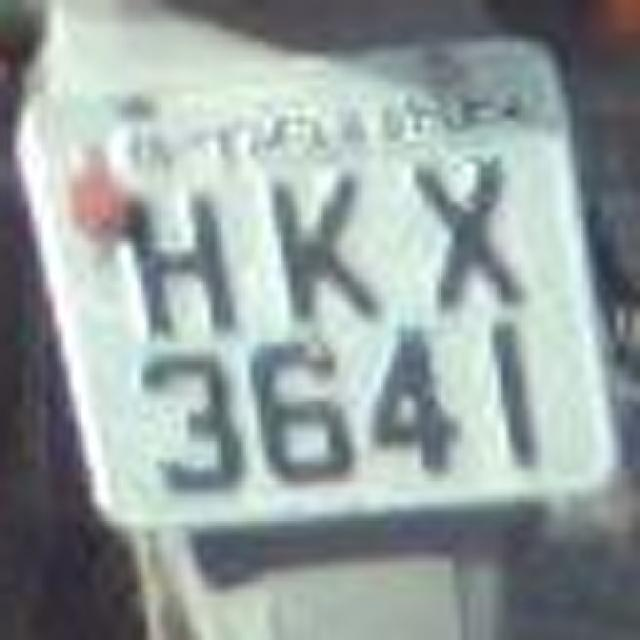1: (460, 335, 548, 480)
3: (100, 320, 255, 505)
4: (348, 320, 464, 495)
6: (229, 320, 356, 500)
H: (112, 160, 248, 340)
K: (264, 160, 391, 335)
X: (404, 156, 536, 329)
